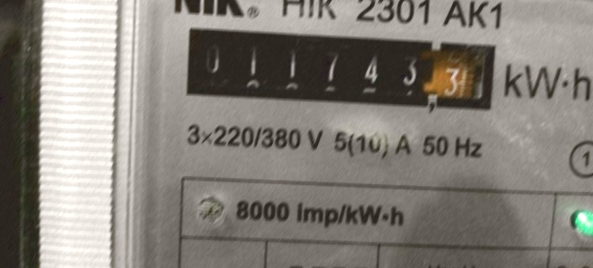0: (202, 40, 223, 77)
1: (285, 45, 302, 79), (248, 43, 260, 77)
3: (399, 53, 419, 88), (442, 66, 462, 100)
4: (362, 51, 380, 86)
7: (323, 48, 342, 83)
screen: (172, 16, 509, 124)
